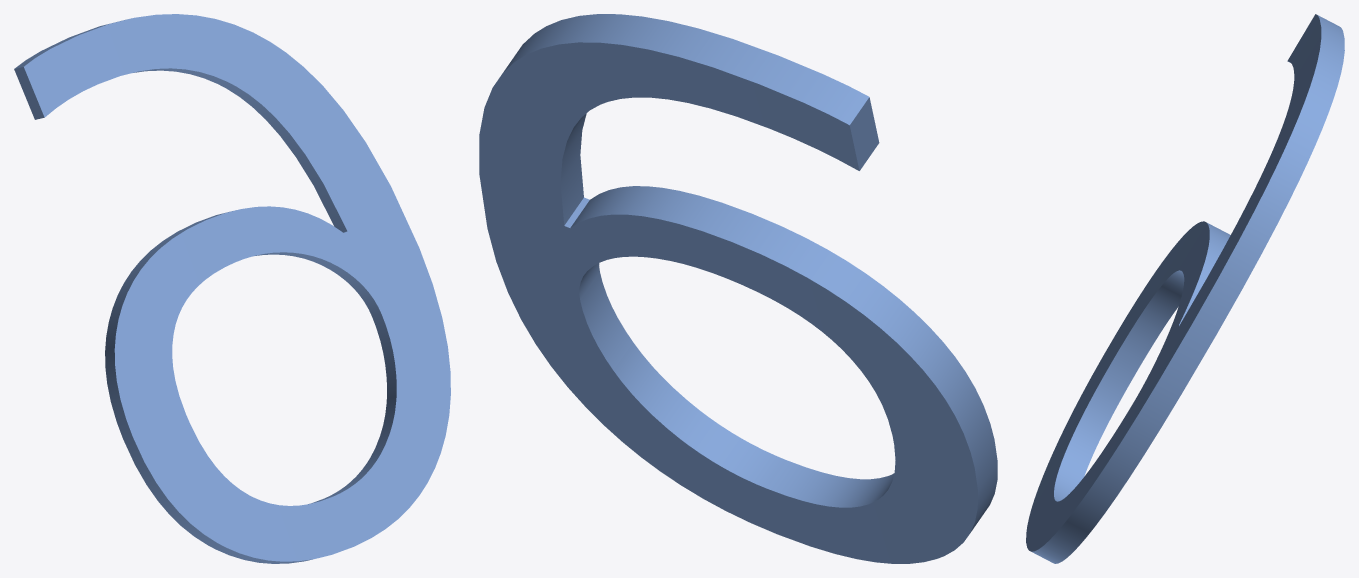
Rendered from New_Number_6.gltf.
3 renders of one model, left to right at view 1: azimuth 30°, elevation 25°; view 2: azimuth 150°, elevation 25°; view 3: azimuth 270°, elevation 25°, orthographic. The views are drawn at different scales.
Parts seen in each view (by area): view 1: Part 528; view 2: Part 528; view 3: Part 528.
Part boxes in pixels (bbox=[...]): Part 528: bbox=[14, 14, 450, 563]; Part 528: bbox=[479, 14, 997, 563]; Part 528: bbox=[1026, 14, 1344, 563].
Size of the model in its own units: 0.00366 by 0.00492 by 0.00303.
